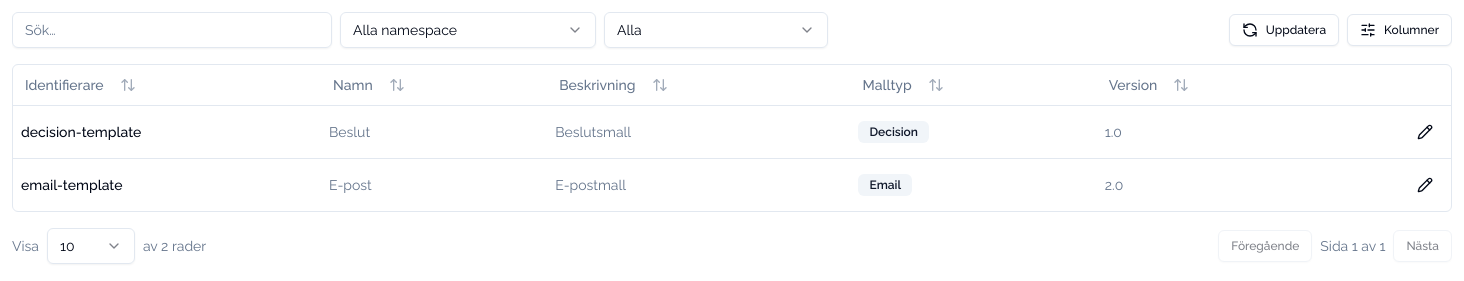
template list filters › offers namespace and template-type filters and filters exact template types
Check: the dropdown named "Filtrera på namespace" is shown, box [340, 12, 596, 48]
Click the dropdown named "Filtrera på malltyp".
click(716, 30)  # box [604, 12, 828, 48]
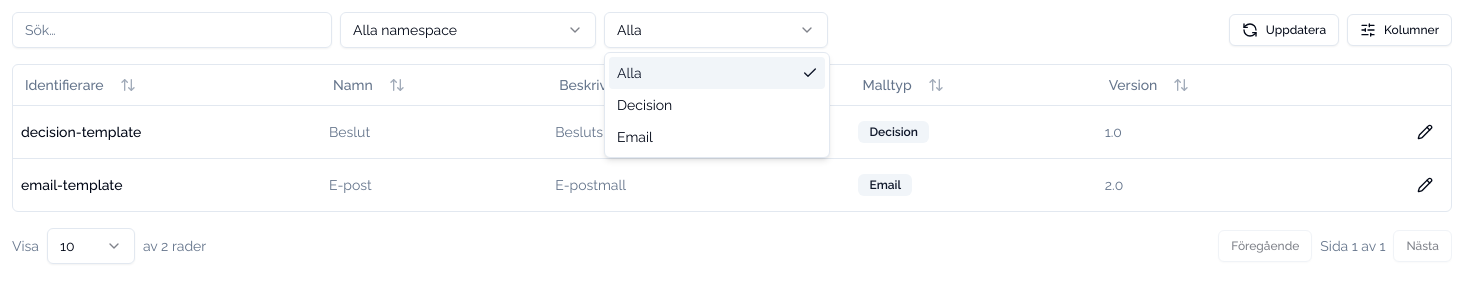
Click the option "Decision".
click(645, 105)  # box [617, 97, 672, 113]
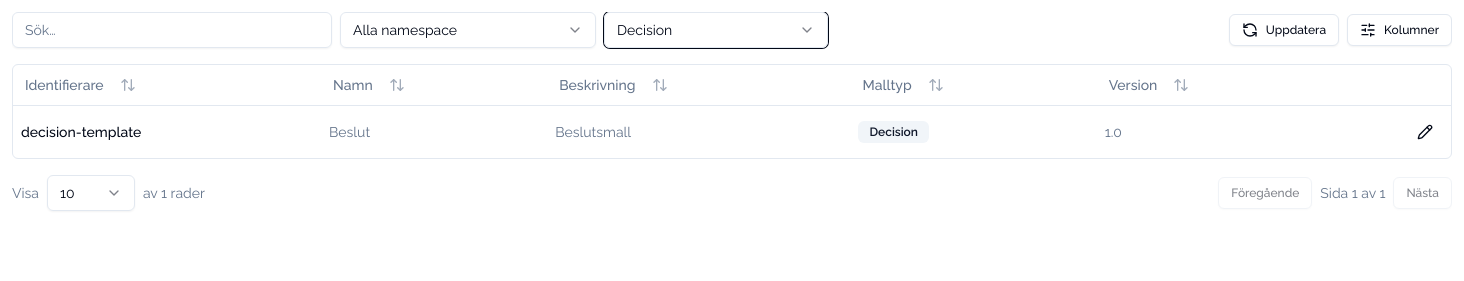
Check: the text "decision-template" is shown, box [21, 124, 141, 140]
Check: the text "email-template" is gone
